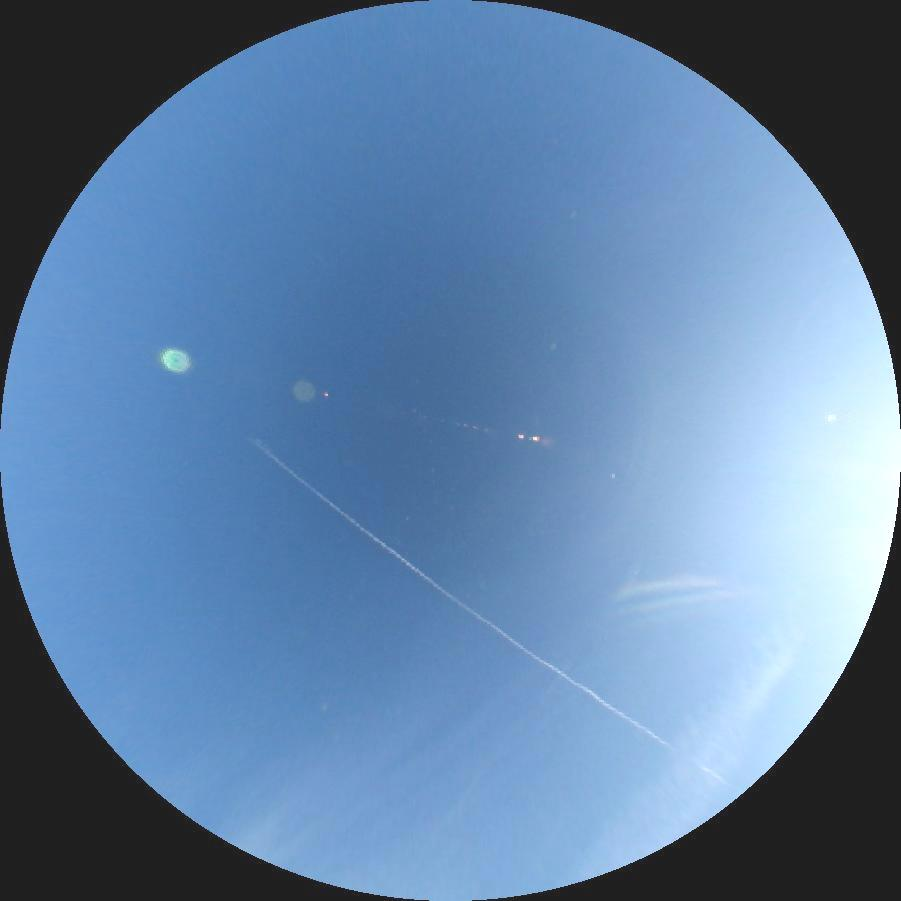contrail old: (245, 437, 729, 795)
parasite: (608, 571, 720, 603)
